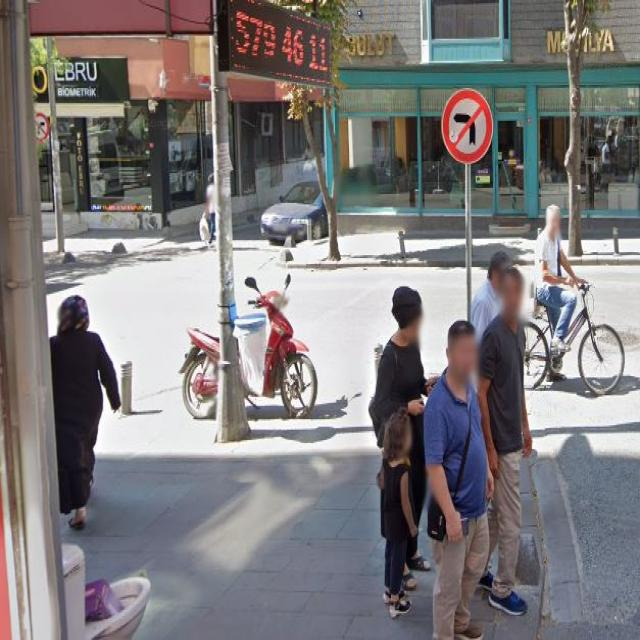sagadonulmez: (32, 113, 49, 145)
soladonulmez: (441, 88, 493, 163)
